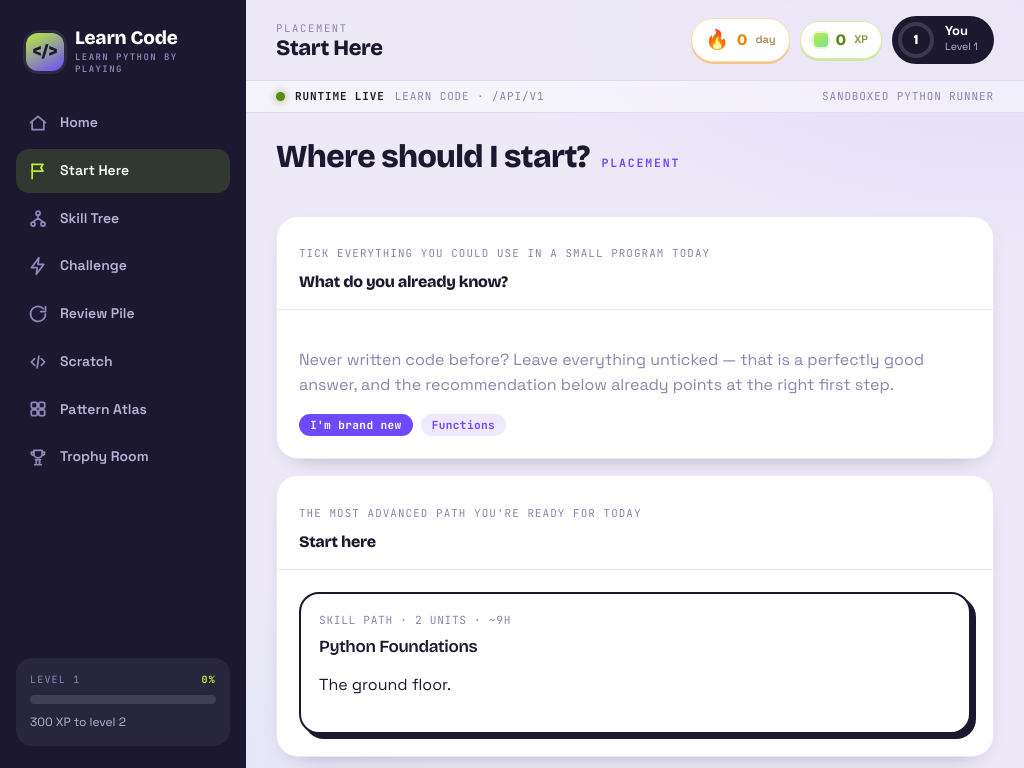
Scenario: StartRoute › recommends Foundations to a brand-new learner, more once concepts are ticked
Check: the link "Python Foundations" is shown, box [319,636,477,657]
Click the button "Functions". click: (463, 425)
box: [421,414,506,436]
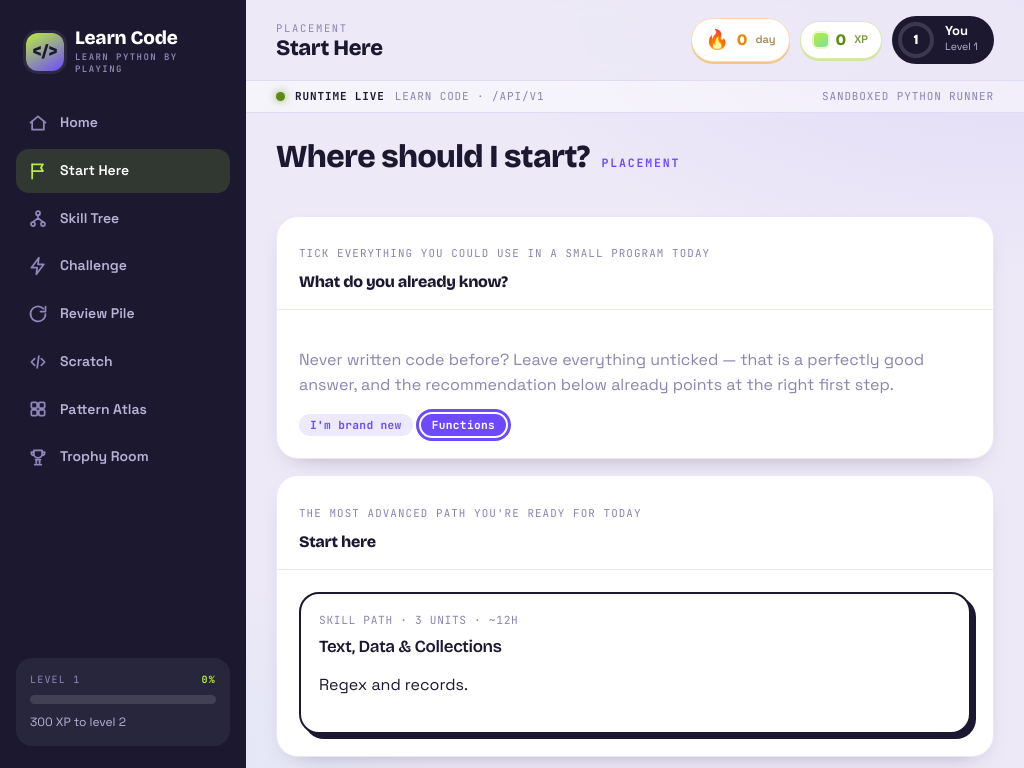
Check: the link "Text, Data & Collections" is shown, box [319,636,502,657]
